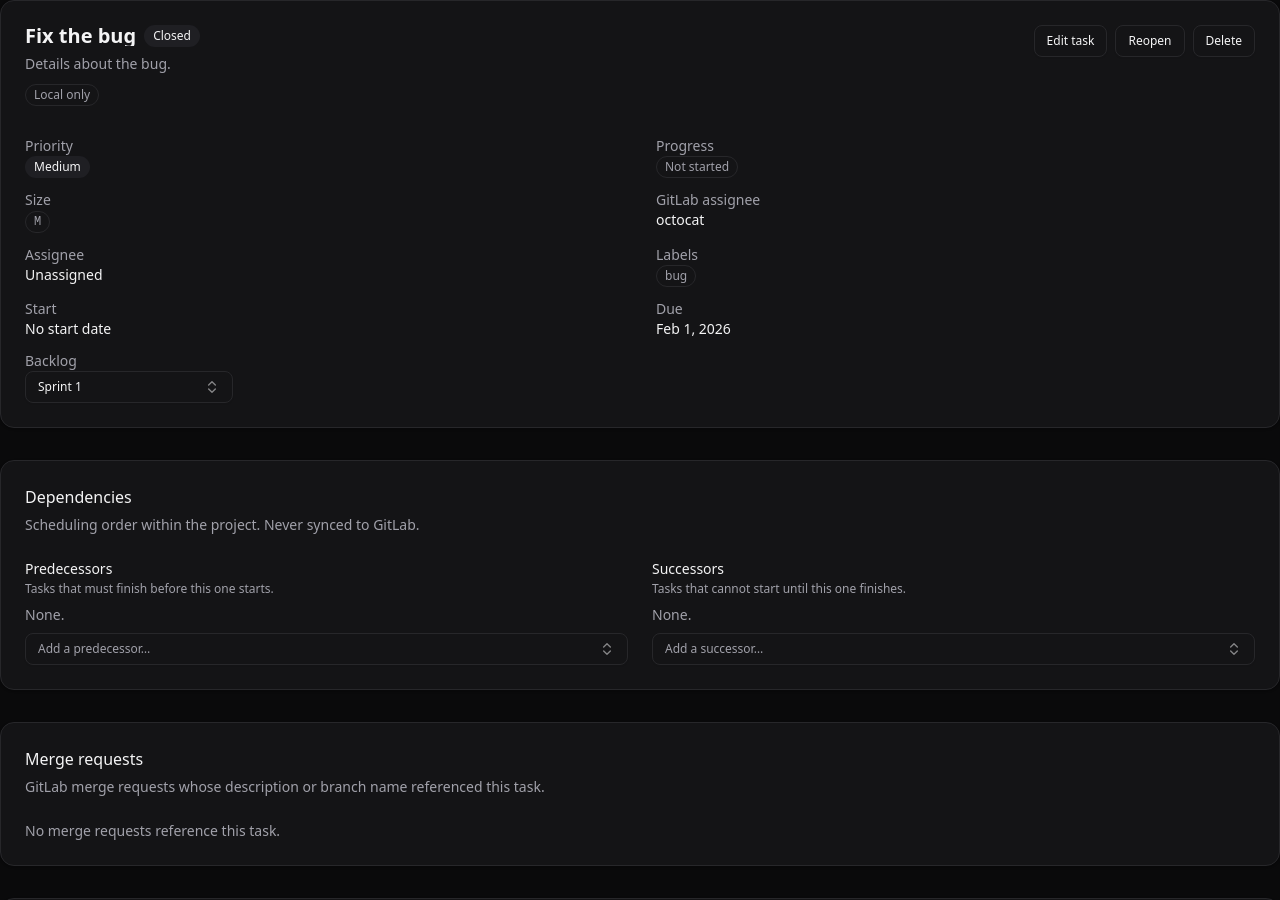
Test: TaskDetail › reopens a closed task
This screenshot has width=1280, height=900.
Step 1. Click the button "Reopen" → (1150, 41), box x1=1115 y1=25 x2=1184 y2=57
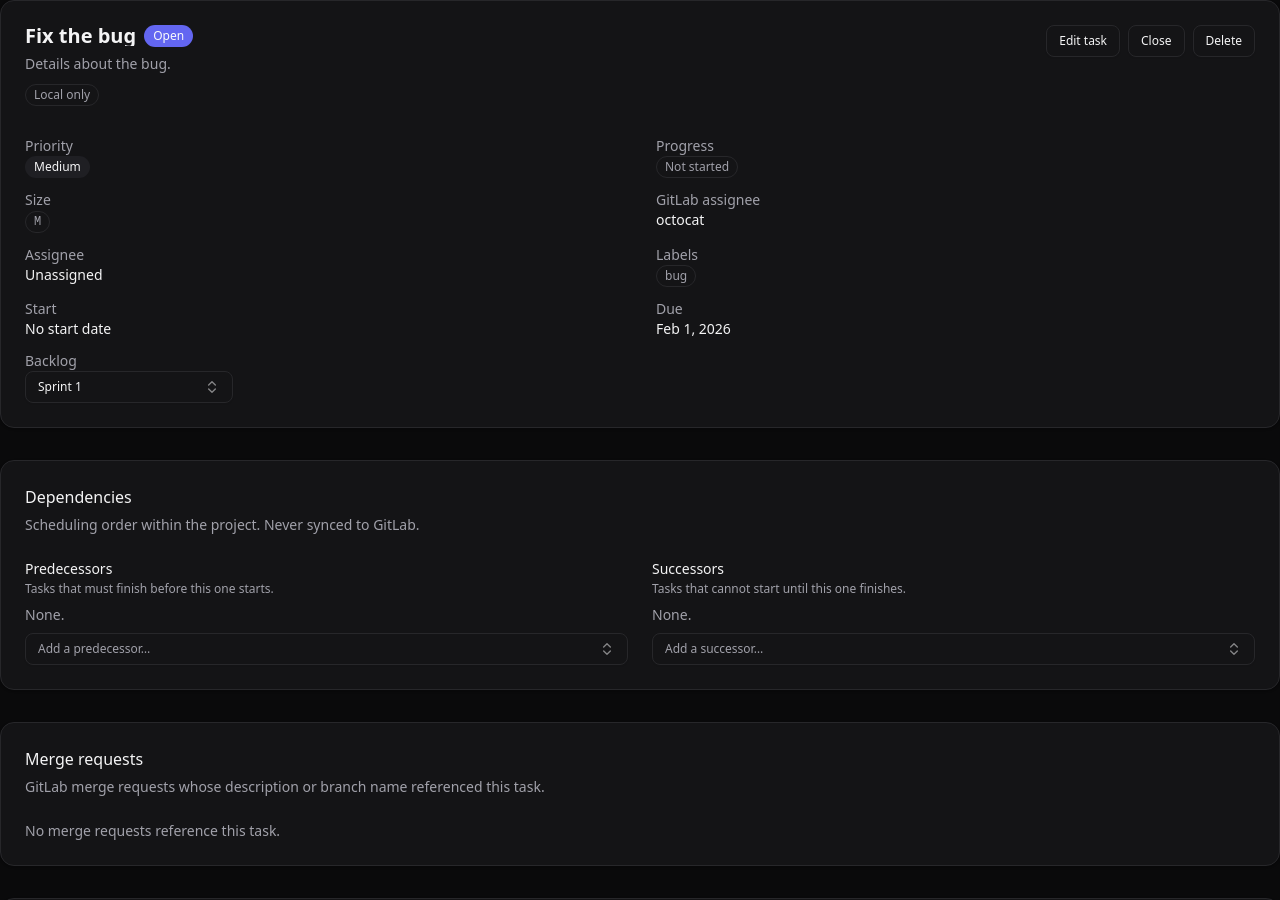
Expected: the button "Close" is shown, x1=1128 y1=25 x2=1184 y2=57
